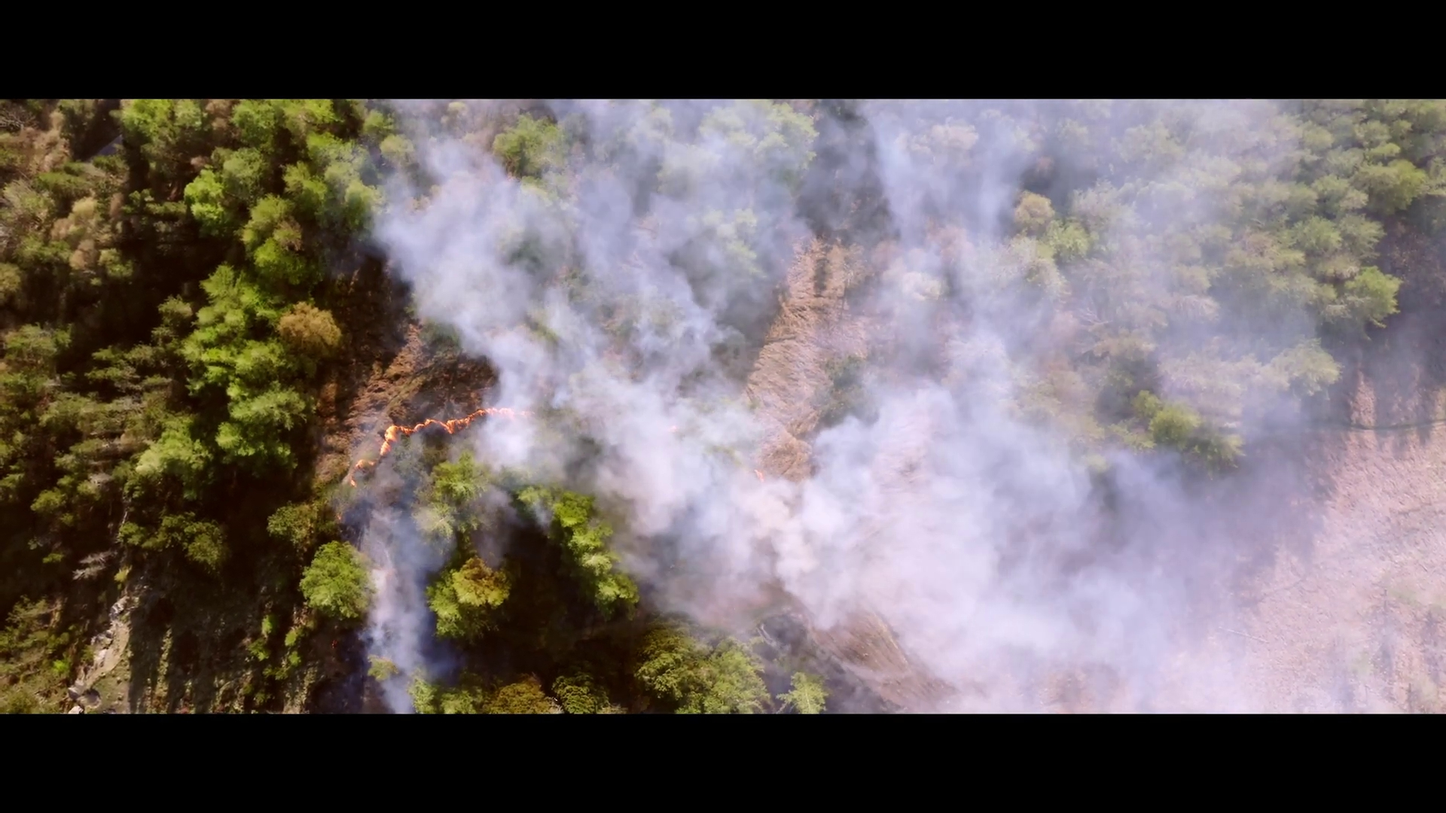forest_fire: (379, 407, 530, 458), (348, 460, 375, 486)
